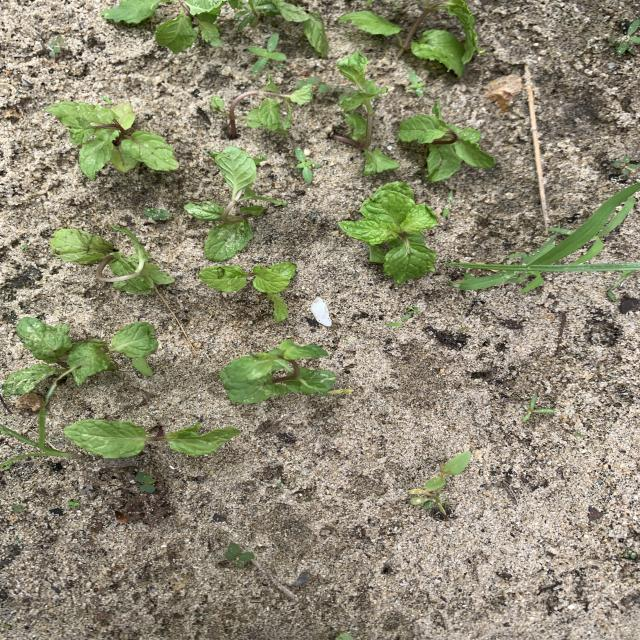crop: (1, 318, 157, 395), (185, 147, 283, 259), (46, 101, 177, 178), (340, 1, 477, 74), (339, 183, 436, 282), (50, 226, 174, 294), (221, 340, 345, 403), (399, 100, 495, 181), (64, 421, 239, 458), (211, 76, 319, 135), (102, 1, 226, 51), (200, 264, 295, 321), (247, 1, 327, 55), (335, 112, 398, 175), (336, 51, 387, 114)
weed: (446, 183, 640, 293), (1, 385, 70, 467), (409, 450, 470, 514), (249, 34, 287, 71), (232, 0, 275, 29), (609, 20, 639, 55), (295, 148, 321, 182), (521, 397, 555, 421), (224, 543, 255, 567), (385, 306, 419, 326), (407, 72, 424, 97), (613, 157, 637, 174), (136, 472, 155, 491), (49, 37, 67, 55), (144, 209, 171, 219), (11, 505, 23, 512), (67, 500, 79, 507), (574, 433, 583, 437)
